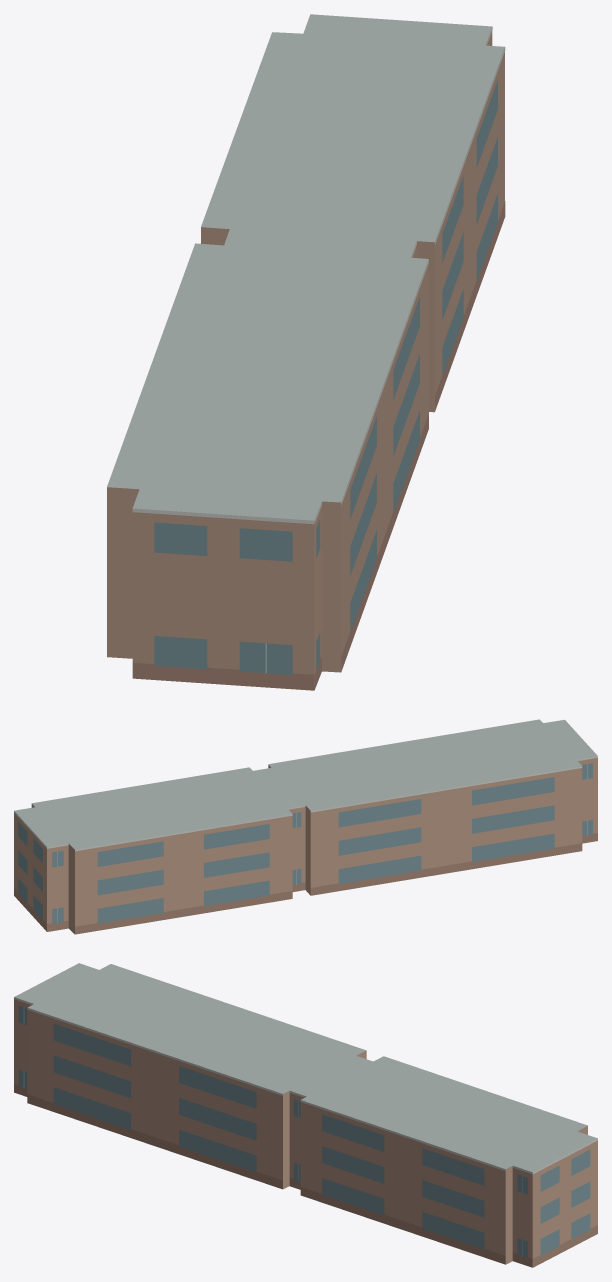
File: survey-upis-32600583.glb
3 views of the same model, one above another, from view 1: azimuth 30°, elevation 25°; view 2: azimuth 150°, elevation 25°; view 3: azimuth 270°, elevation 25° (orthographic). The views are drawn at different scales.
Visible parts, largest first — view 1: survey-upis-32600583.tmp; view 2: survey-upis-32600583.tmp; view 3: survey-upis-32600583.tmp.
Part boxes in pixels (x1,y1,x2,y2): survey-upis-32600583.tmp: (107,14,505,690); survey-upis-32600583.tmp: (14,719,597,934); survey-upis-32600583.tmp: (14,963,597,1267).
Size of the model in its own units: 53.61 by 11.4 by 63.2.
